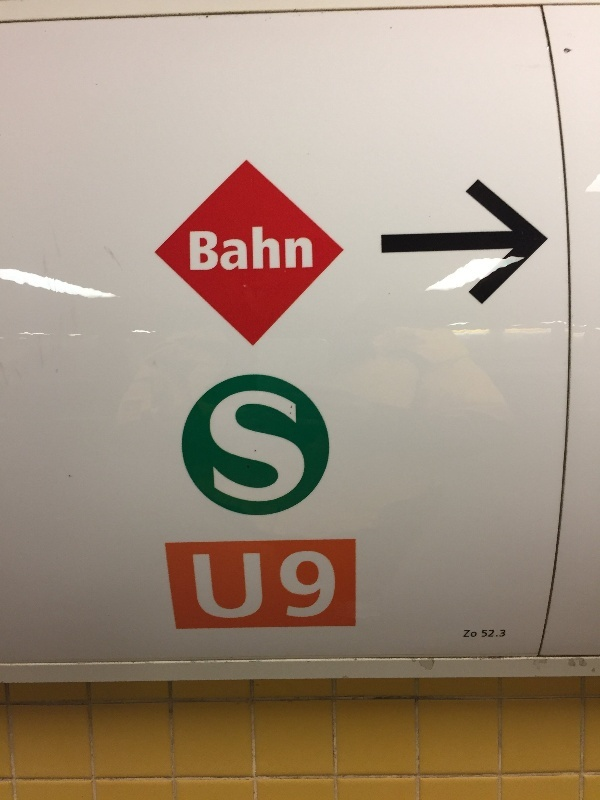text: (225, 390, 240, 506), (241, 390, 256, 506), (257, 390, 272, 506), (273, 390, 288, 506), (289, 390, 304, 506), (210, 390, 224, 506), (193, 553, 208, 622), (209, 553, 224, 622), (225, 553, 240, 622), (241, 553, 256, 622), (289, 550, 304, 619), (305, 550, 320, 619), (321, 550, 336, 619), (193, 226, 208, 272), (209, 226, 224, 272), (225, 226, 240, 272), (241, 226, 256, 272), (257, 226, 272, 272), (273, 226, 288, 272), (289, 226, 304, 272), (279, 550, 288, 619), (257, 553, 264, 622), (305, 226, 313, 272), (483, 629, 496, 638), (305, 390, 306, 506), (465, 629, 477, 638), (497, 629, 506, 638)
